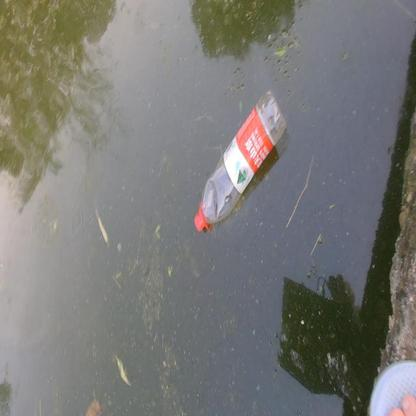plastic bottle: (192, 89, 285, 232)
